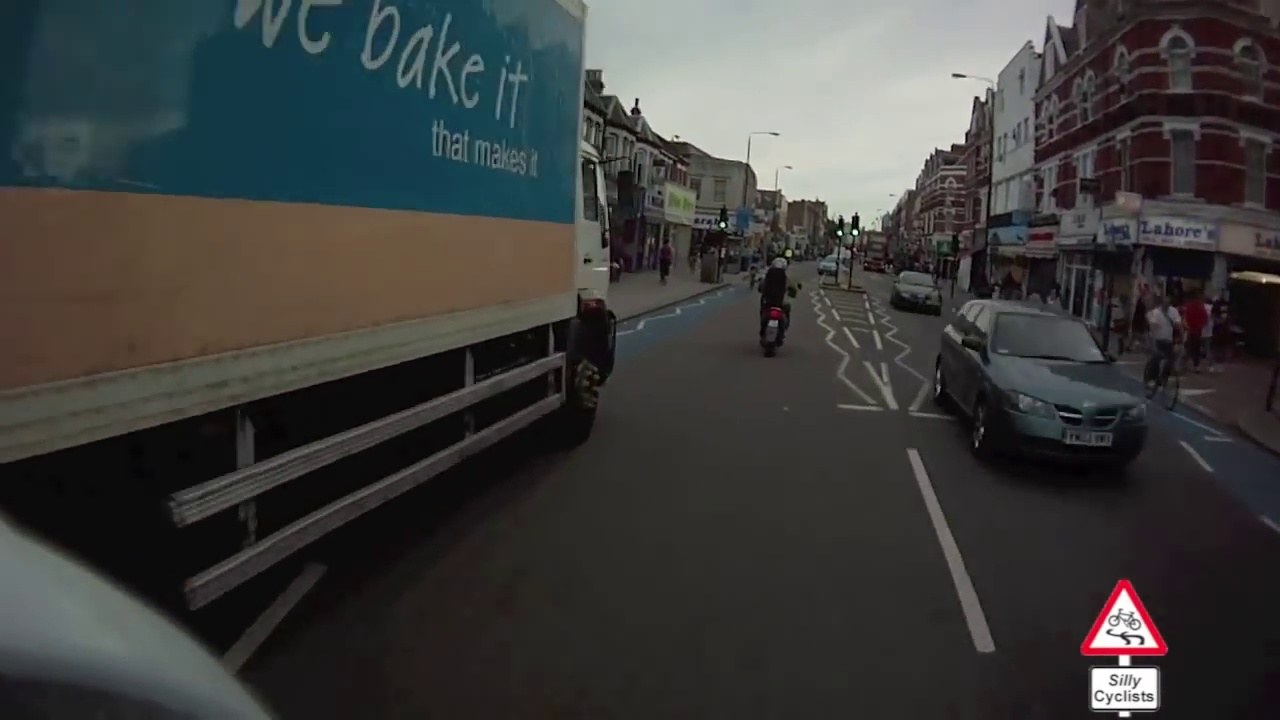cyclist_back: (756, 256, 796, 358)
cyclist_front: (1134, 293, 1186, 416)
